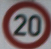20 km speed: (1, 1, 50, 49)
